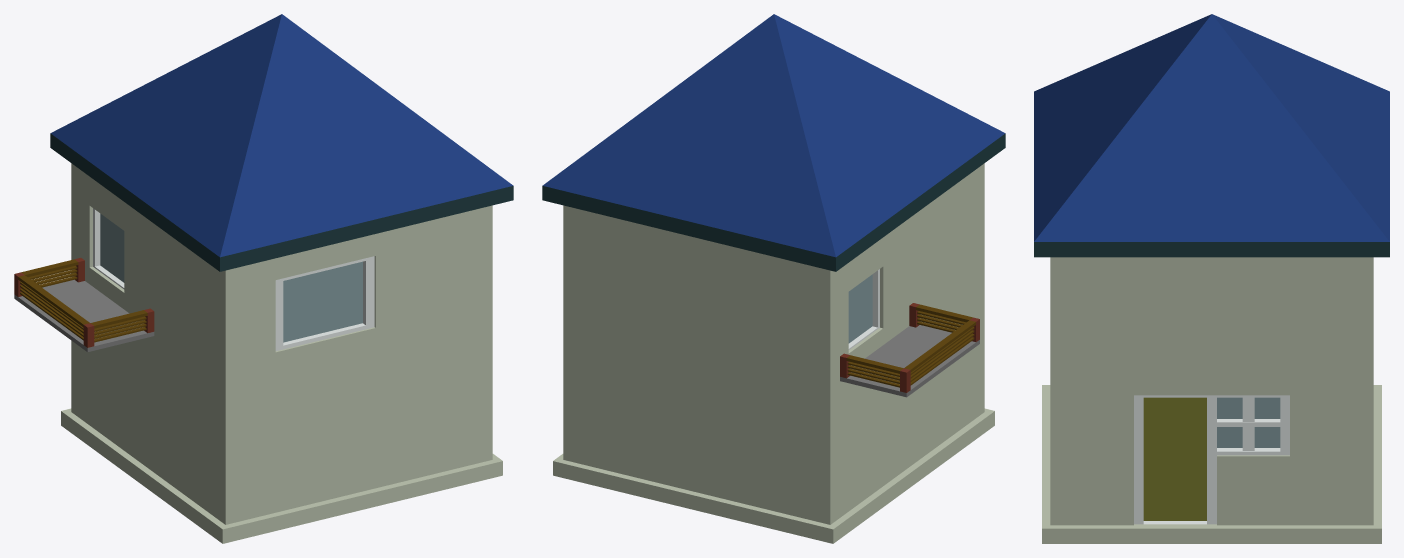
The model's file is building7.fbx.
3 views of the same model, side by side, from view 1: azimuth 30°, elevation 25°; view 2: azimuth 150°, elevation 25°; view 3: azimuth 270°, elevation 25° (orthographic). The views are drawn at different scales.
Visible parts, largest first — view 1: building_009; view 2: building_009; view 3: building_009.
Boxes of the visible parts, x1,y1,x2,y2 form: building_009: (14,14,513,543); building_009: (542,14,1005,543); building_009: (1034,14,1389,543).
Size of the model in its own units: 12.48 by 15 by 10.56.
